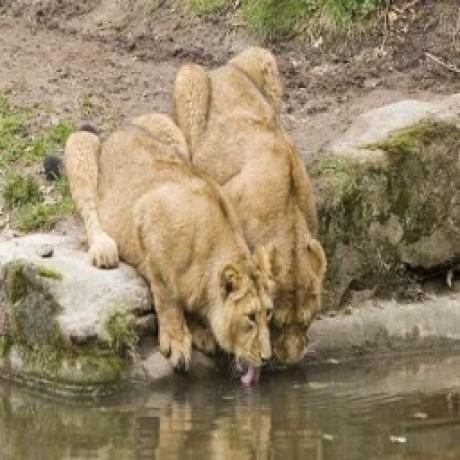Lion: (63, 110, 276, 391), (170, 42, 327, 369)
